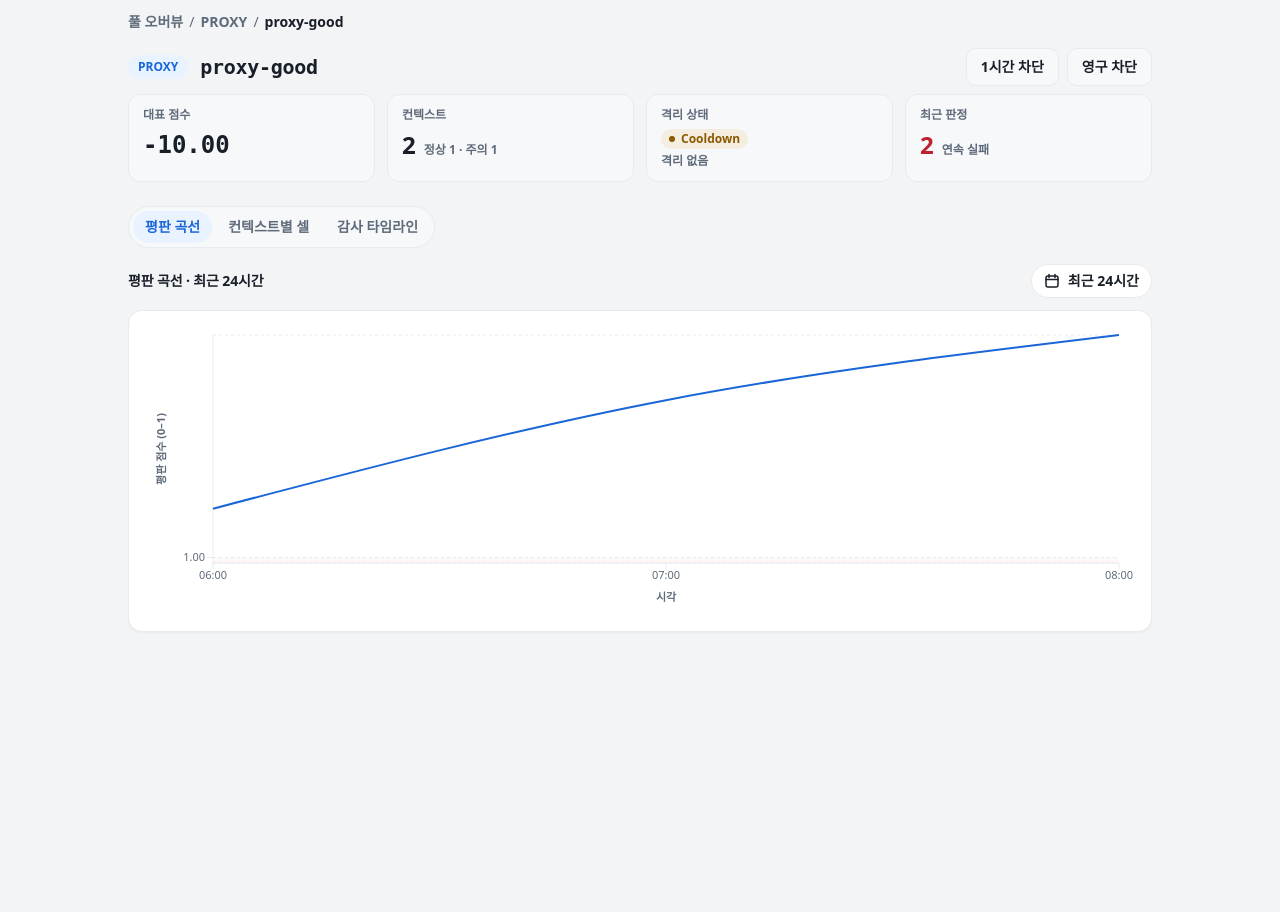
Test: 리소스 상세 화면 (integration + MSW) › 영구 차단 성공 시 성공 토스트를 띄운다
The width and height of the screenshot is (1280, 912).
Expected: the heading "proxy-good" is shown, [200,55,318,79]
Click the button "영구 차단" at (1109, 67), box [1067,48,1152,86]
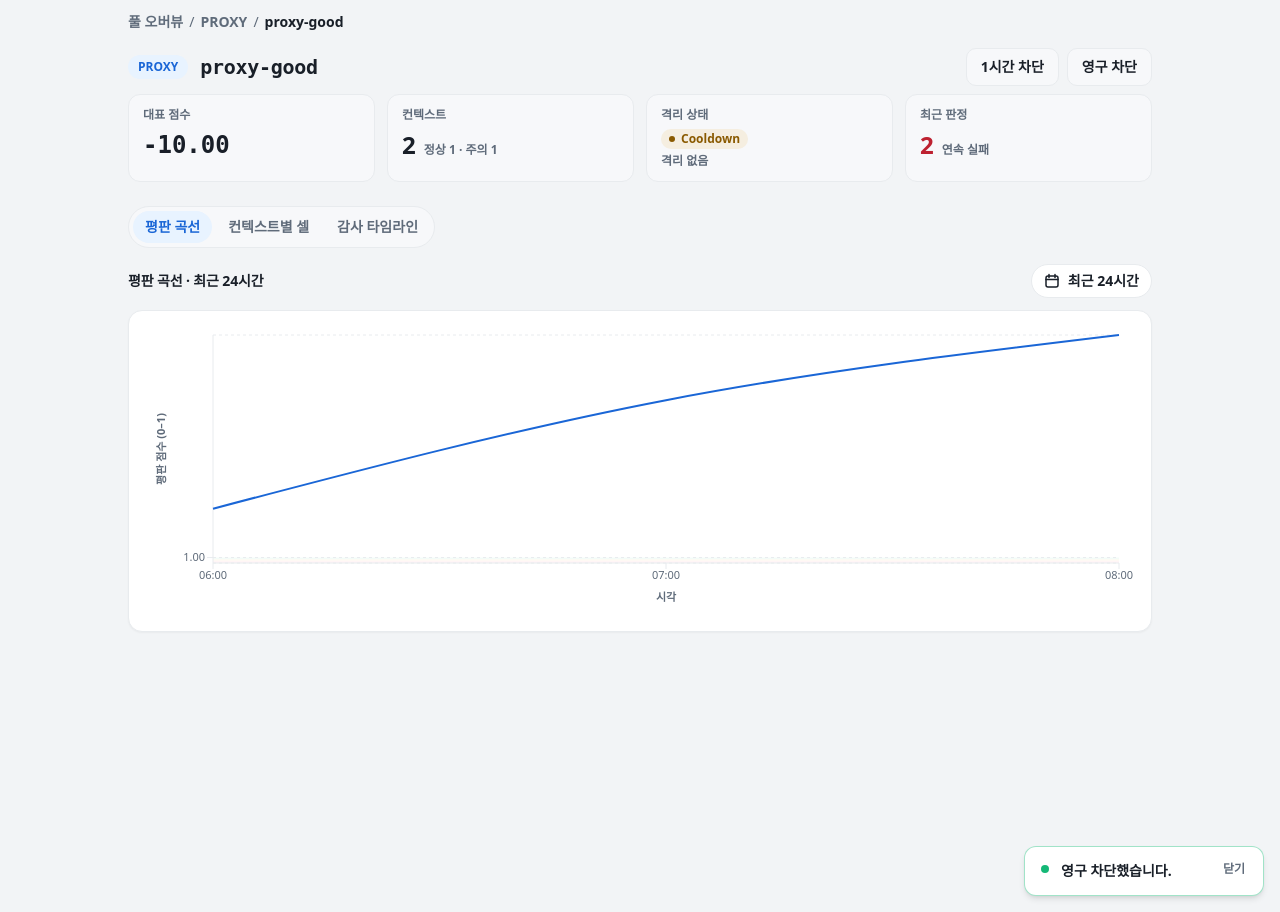
Expected: the message shows "영구 차단했습니다", [1061,861,1172,880]
